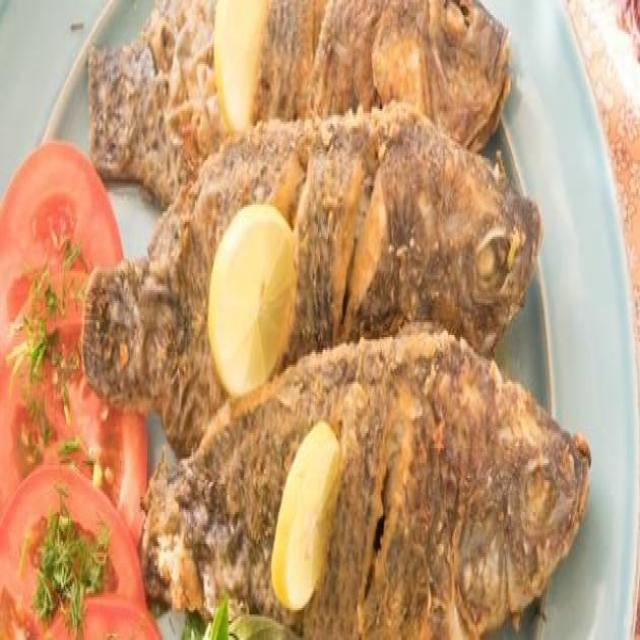Peixe: (79, 0, 592, 638), (138, 324, 592, 638), (211, 0, 513, 154)
